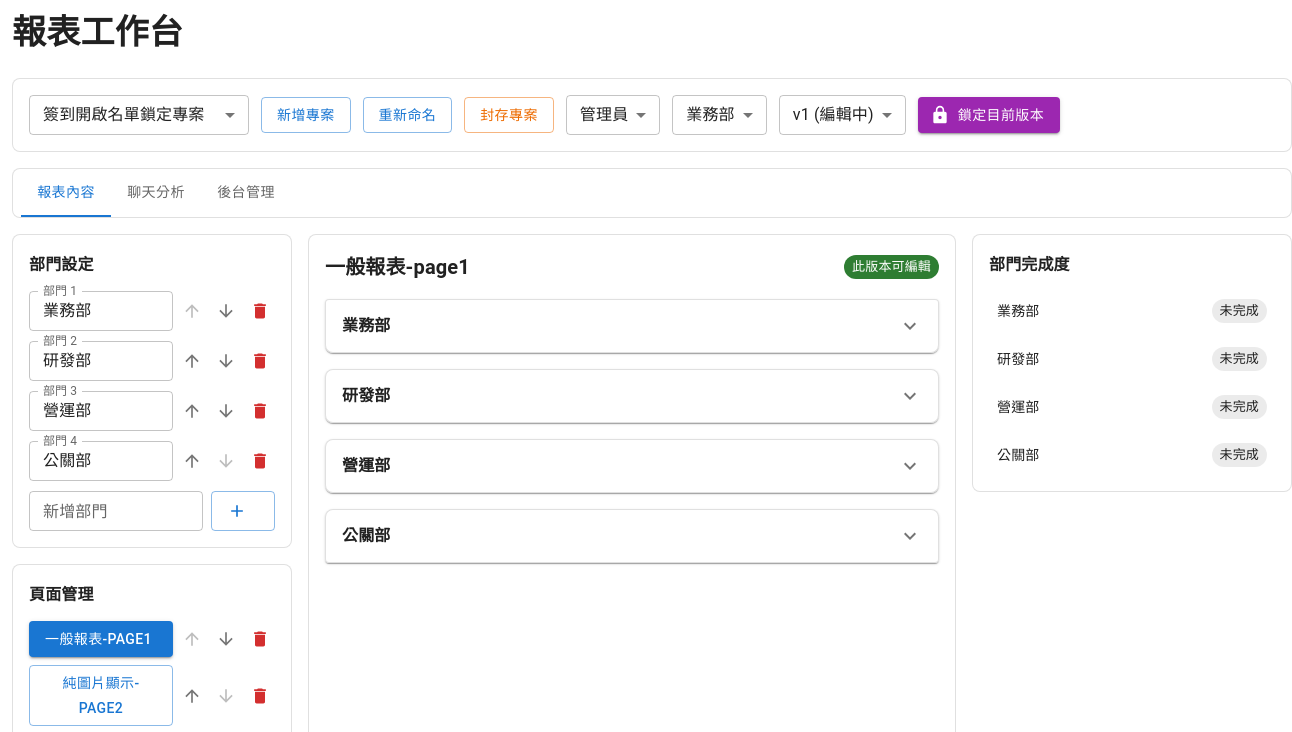
Test: ReportWorkspacePage backend management tab › locks roster import once sign-in has started
Step 1. Click the tab "後台管理" → (246, 193), box [201, 169, 291, 217]
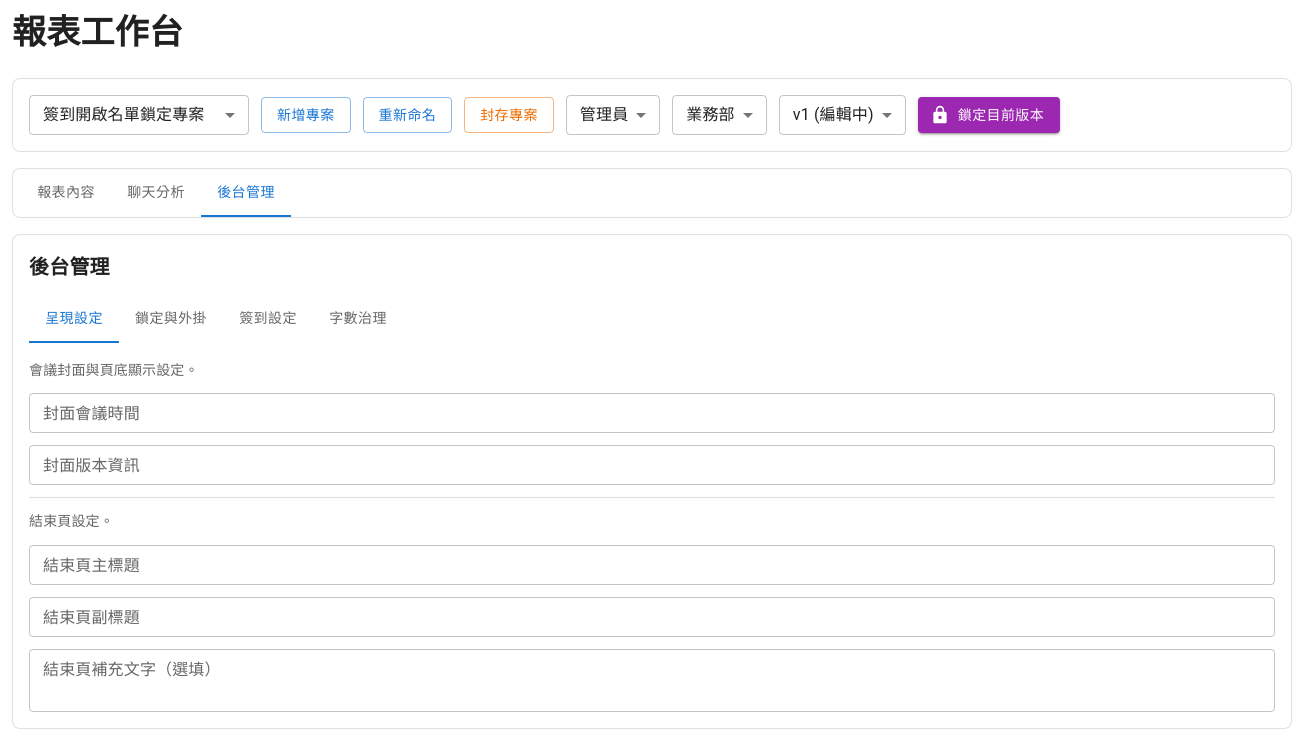
Step 2. Click the tab "簽到設定" → (268, 319), box [223, 295, 313, 343]
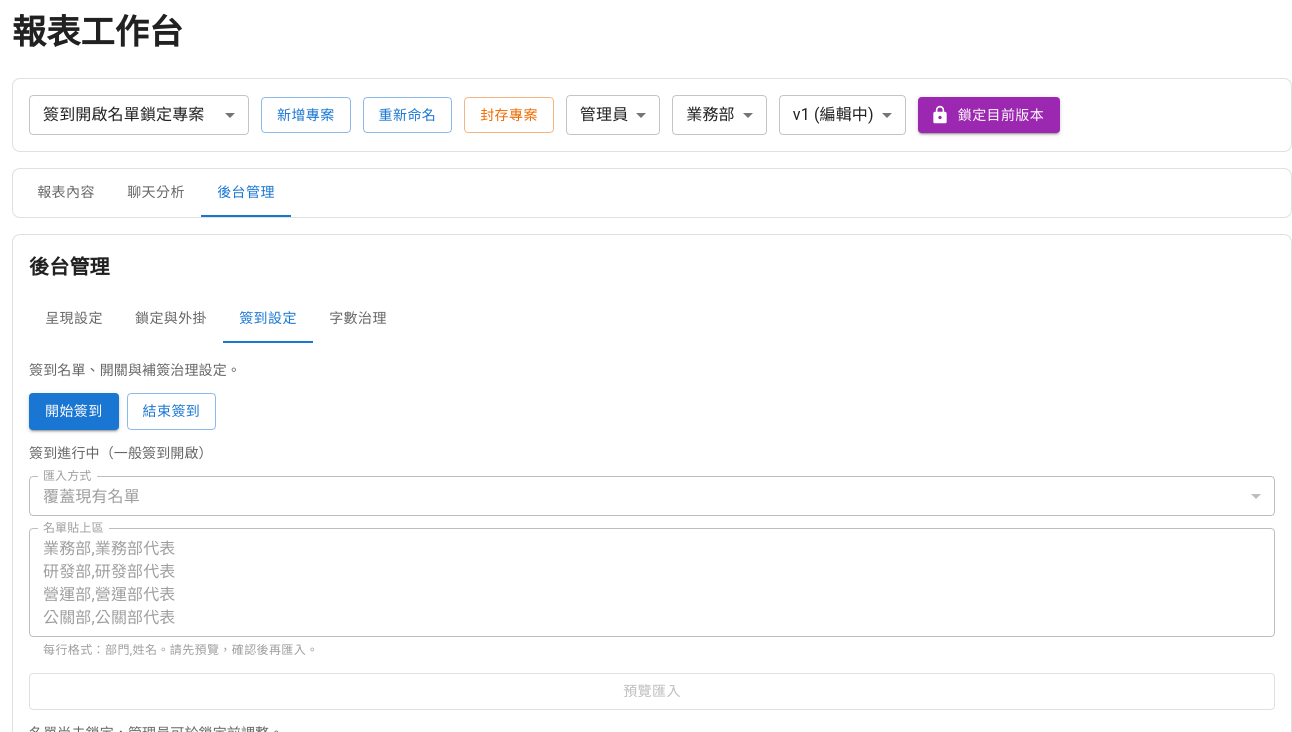
Expected: the text box labelled "名單貼上區" is disabled, [43, 537, 1261, 629]
Expected: the button "預覽匯入" is disabled, [29, 673, 1275, 710]
